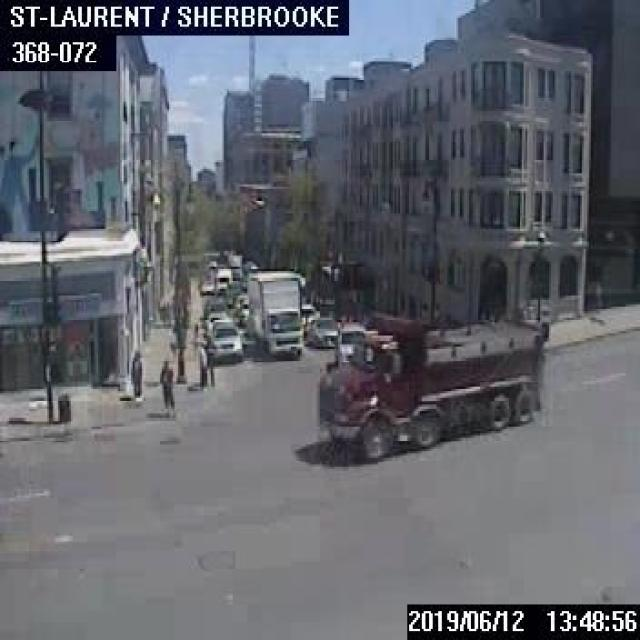pedestrian: (158, 353, 173, 409), (128, 347, 142, 398), (198, 340, 207, 387), (207, 348, 213, 387)
vehicle: (315, 313, 547, 455), (245, 269, 303, 356), (207, 317, 243, 361), (333, 322, 366, 364), (308, 315, 341, 347), (204, 310, 228, 338), (213, 266, 230, 293), (232, 292, 246, 314), (198, 278, 214, 294), (238, 298, 246, 323)
